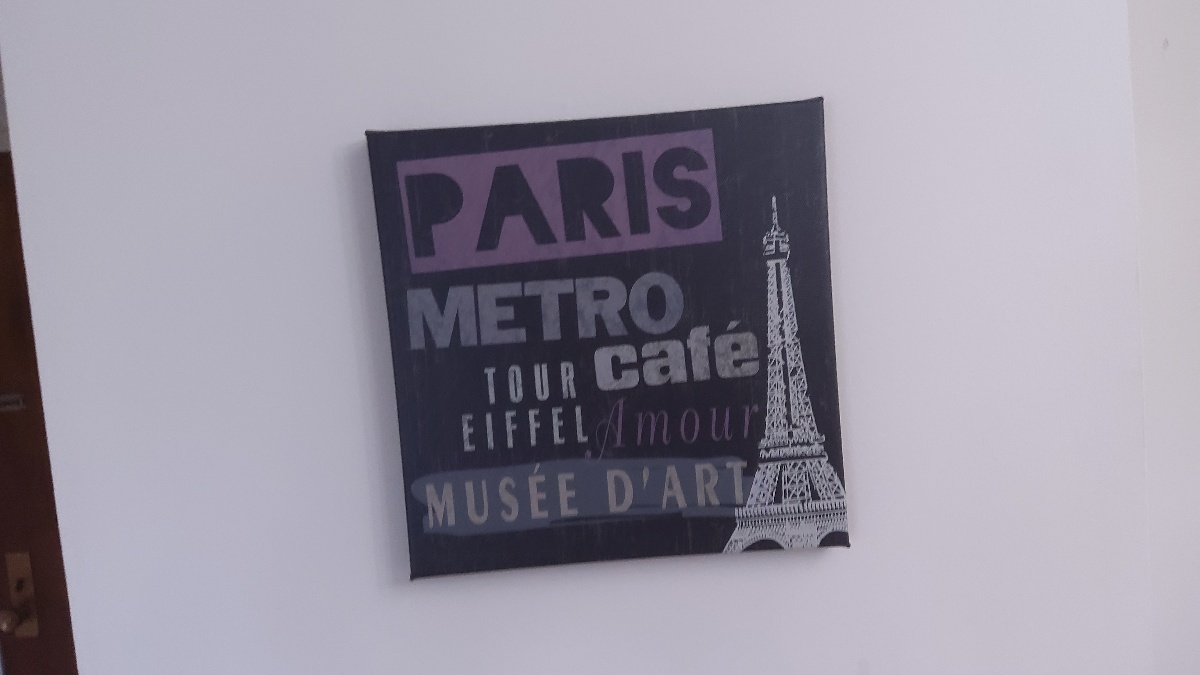poster: (350, 101, 864, 591)
